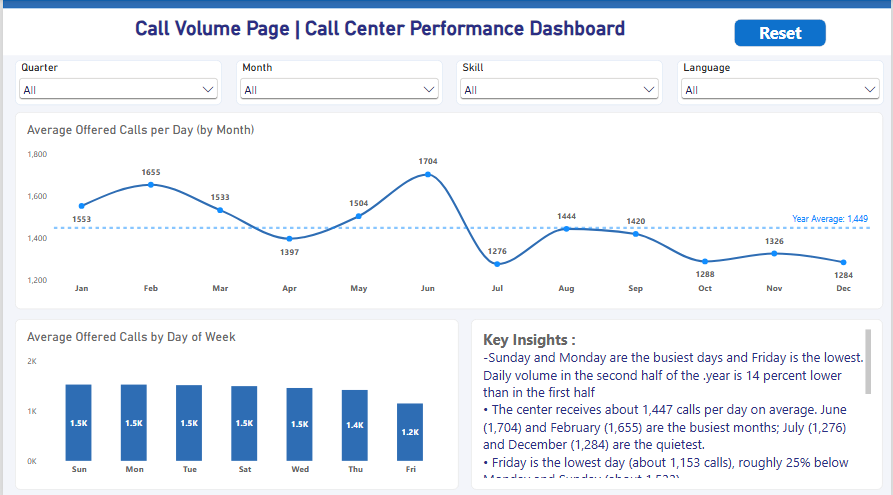

This screenshot's page, from the dashboard's own definition file:
{"tool":"powerbi","page":{"name":"Call Volume","canvas":[1280,720],"ordinal":1},"visuals":[{"type":"shape","box":[0,0,1280,80],"z":0},{"type":"textbox","box":[158.3,23.3,770,56.7],"z":1000},{"type":"shape","box":[0,0,1280,12],"z":2000},{"type":"slicer","fields":{"Values":["Calendar.Quarter"]},"box":[17.5,86.3,298,65],"z":4000},{"type":"slicer","fields":{"Values":["Calendar.Month"]},"box":[335,86.3,298,65],"z":5000},{"type":"slicer","fields":{"Values":["Calls.Skill"]},"box":[652.5,86.3,298,65],"z":6000},{"type":"slicer","fields":{"Values":["Calls.Language"]},"box":[970,86.3,298,65],"z":7000},{"type":"lineChart","title":"Average Offered Calls per Day (by Month)","fields":{"Category":["Calendar.Month"],"Y":["_Measures.Avg Offered per Day"]},"box":[17.5,161.2,1250,283.8],"z":8000},{"type":"clusteredColumnChart","title":"Average Offered Calls by Day of Week","fields":{"Category":["Calendar.Day Name"],"Y":["_Measures.Avg Offered per Day"]},"box":[17.5,460,638.8,246.2],"z":9000},{"type":"textbox","box":[674.3,460,592.9,245.7],"z":10000},{"type":"actionButton","title":"Reset","box":[1053.3,26.7,133.3,40],"z":11000}]}

Visuals, with their boxes in screenshot pixels (x1, y1, x2, y2), scaled from the page's 1280x720 canvas onto the 893x495 screenshot:
shape: (0,0,892,55)
textbox: (110,16,648,55)
shape: (0,0,892,8)
slicer - Calendar.Quarter: (12,59,220,104)
slicer - Calendar.Month: (234,59,442,104)
slicer - Calls.Skill: (455,59,663,104)
slicer - Calls.Language: (677,59,885,104)
"Average Offered Calls per Day (by Month)" lineChart: (12,111,884,306)
"Average Offered Calls by Day of Week" clusteredColumnChart: (12,316,458,486)
textbox: (470,316,884,485)
"Reset" actionButton: (735,18,828,46)
